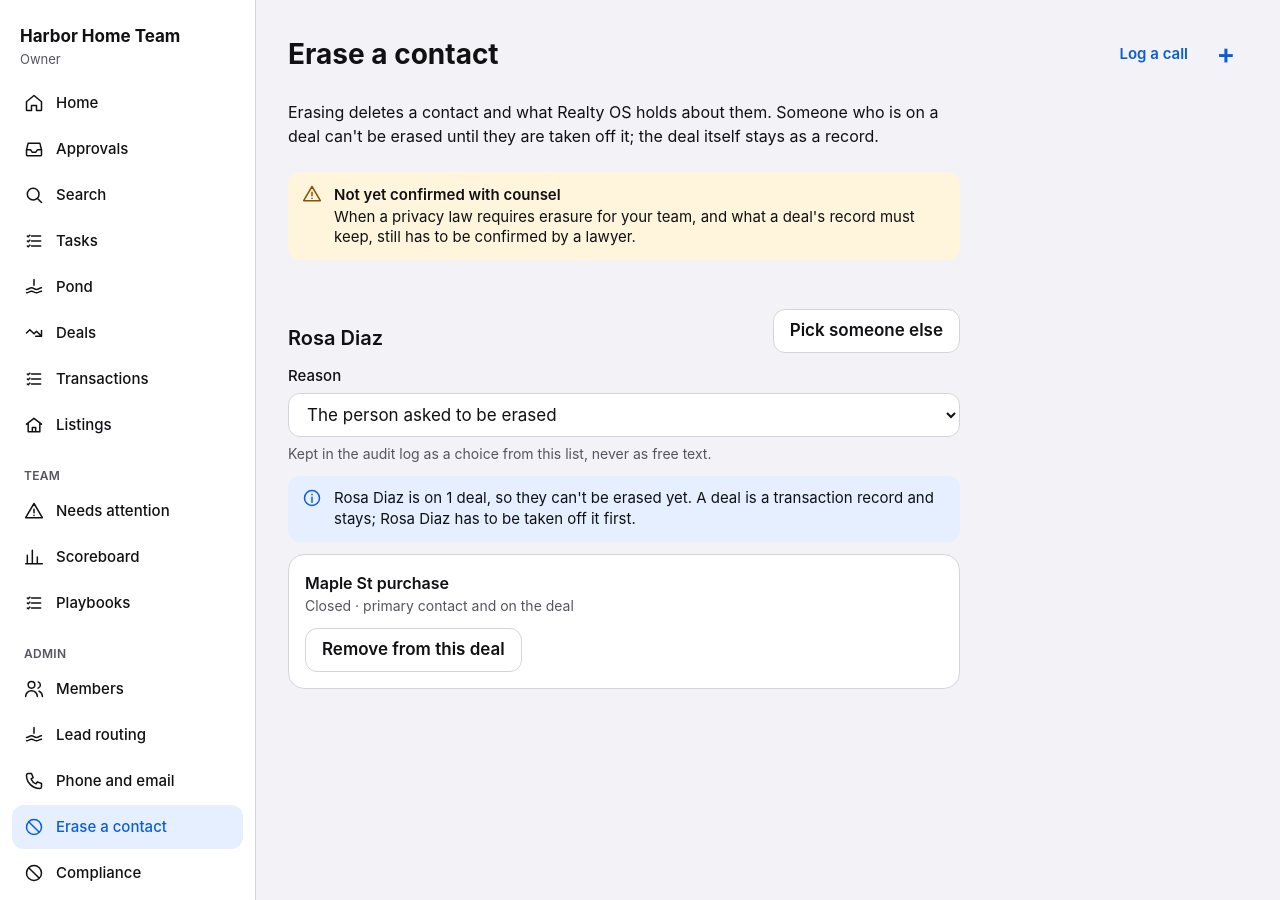
Test: Erase a contact › E59 R-DATA-4: a contact on a closed deal is explained, not erasable; the Owner removes the deal link, then erasure is offered
The image size is (1280, 900).
Expected: the text "Rosa Diaz is on 1 deal, so they can't be erased yet" is shown, [334, 488, 946, 530]
Expected: the text "Closed · primary contact and on the deal" is shown, [305, 596, 574, 614]
What coordinates should you click on to do the following:
click the button "Remove from this deal"
I would click on:
 (413, 650)
Its box is [305, 628, 522, 672].
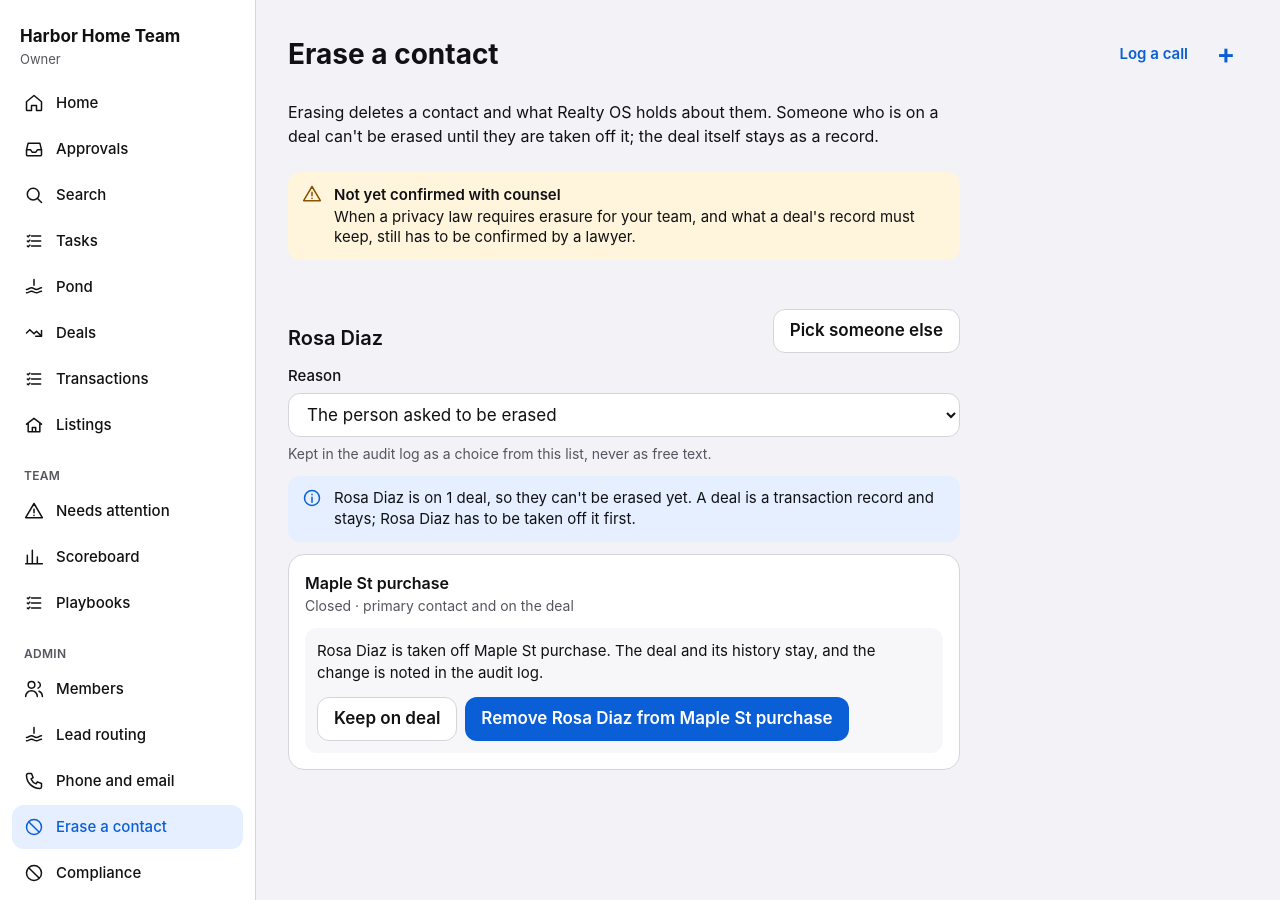
What coordinates should you click on to do the following:
click the button "Remove Rosa Diaz from Maple St purchase"
I would click on:
 (657, 718)
Its box is [465, 696, 849, 740].
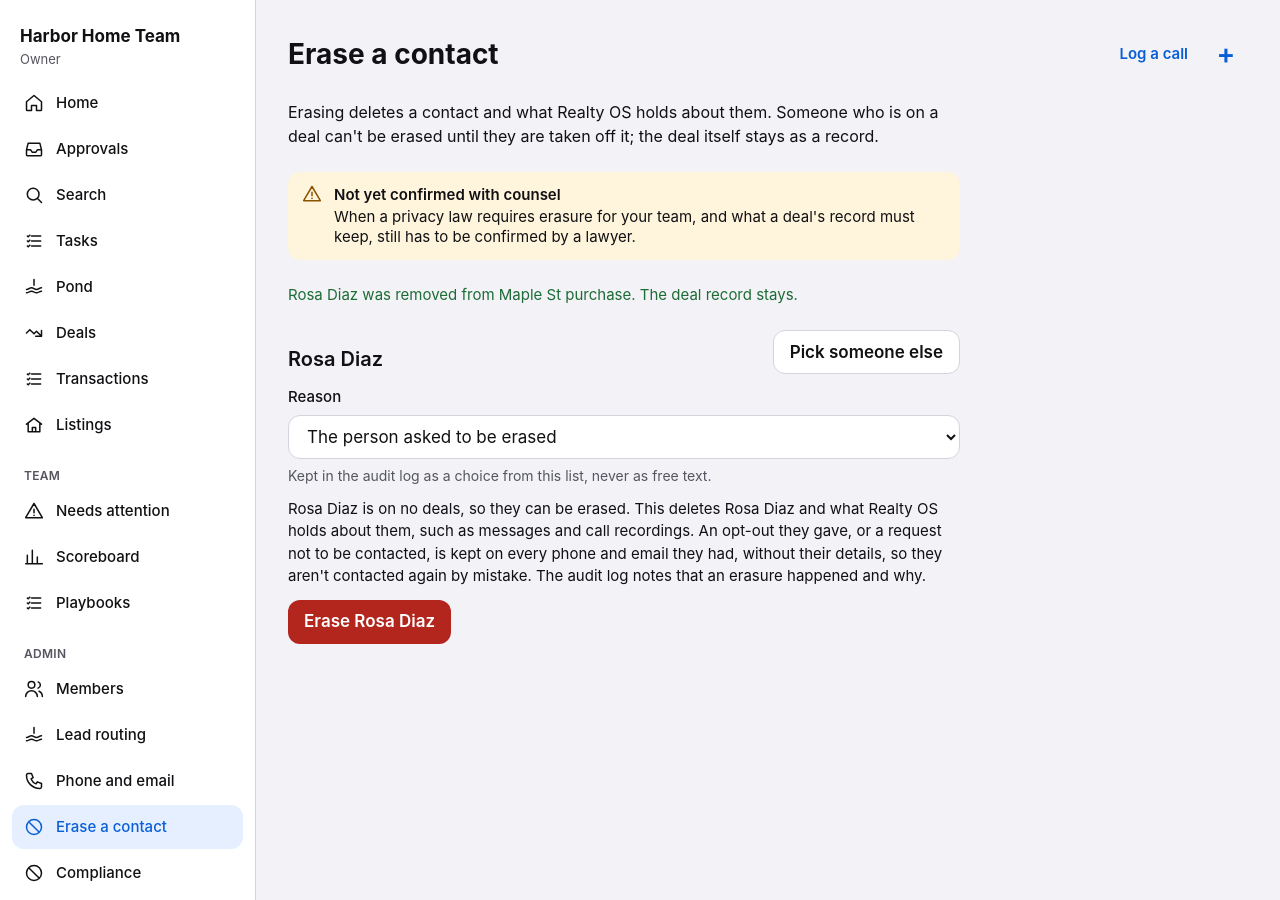
Result: the button "Erase Rosa Diaz" is shown at [288, 600, 451, 644]
Result: the text "Rosa Diaz was removed from Maple St purchase. The deal record stays." is shown at [288, 285, 798, 304]
